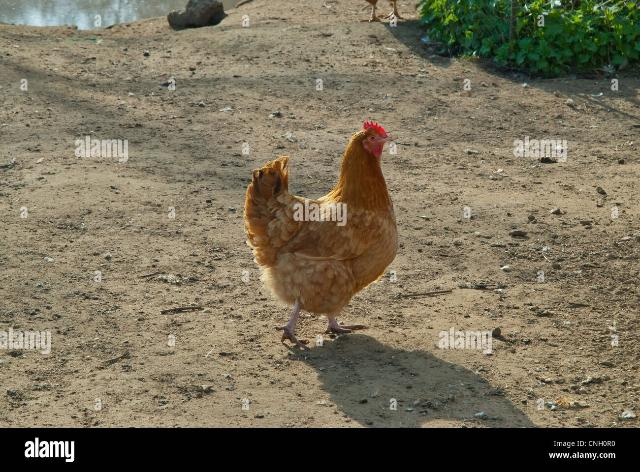Chicken: (245, 122, 398, 346)
